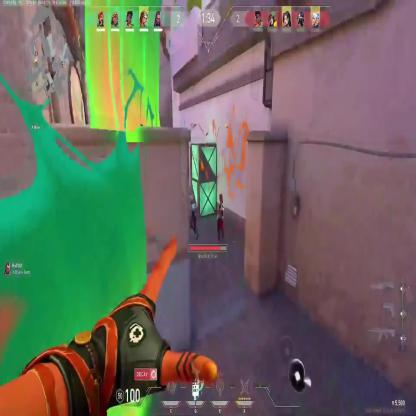enemy: (187, 194, 200, 241), (215, 192, 226, 242)
enemy_head: (190, 194, 196, 204), (218, 194, 223, 204)
